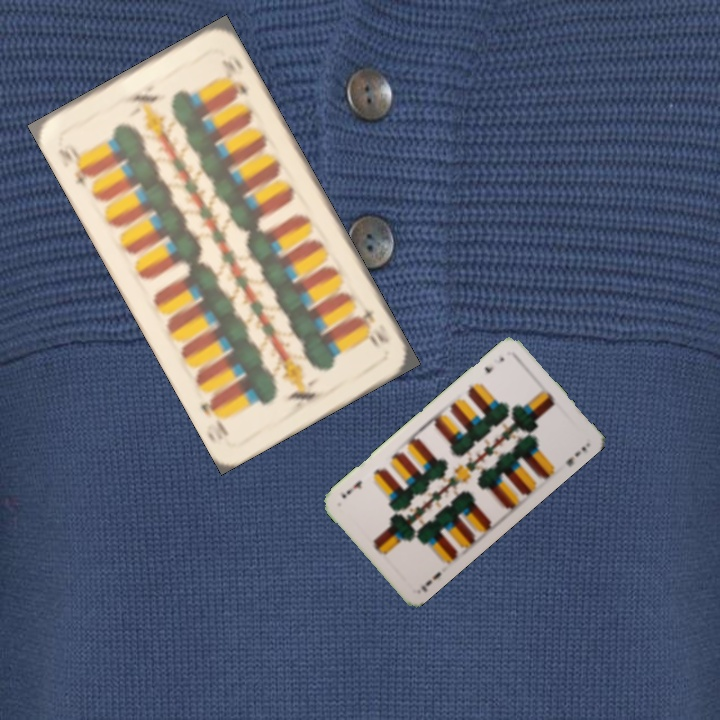E10: (354, 303, 393, 352), (53, 144, 94, 189)
E7: (417, 568, 443, 594), (480, 353, 507, 376)
